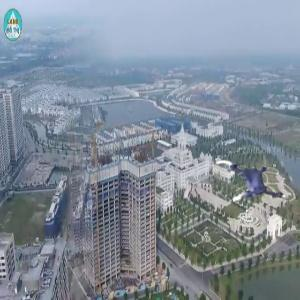drone: (212, 147, 283, 218)
